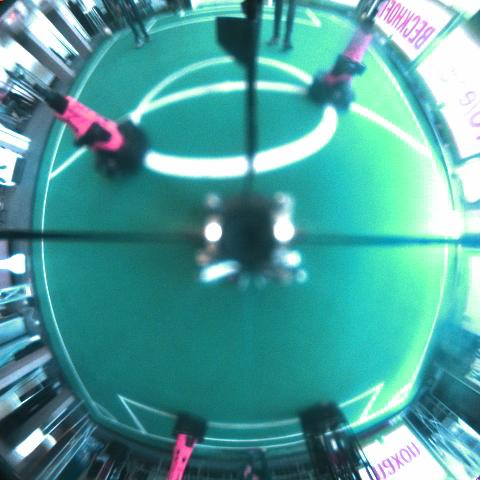ball: (104, 27, 112, 37), (360, 14, 366, 20)
goal: (191, 0, 197, 10), (268, 1, 272, 7)
person: (117, 1, 151, 47), (266, 0, 283, 46), (284, 1, 297, 51)
robot: (32, 83, 149, 177), (307, 8, 379, 114), (300, 403, 378, 479), (168, 411, 209, 479)
